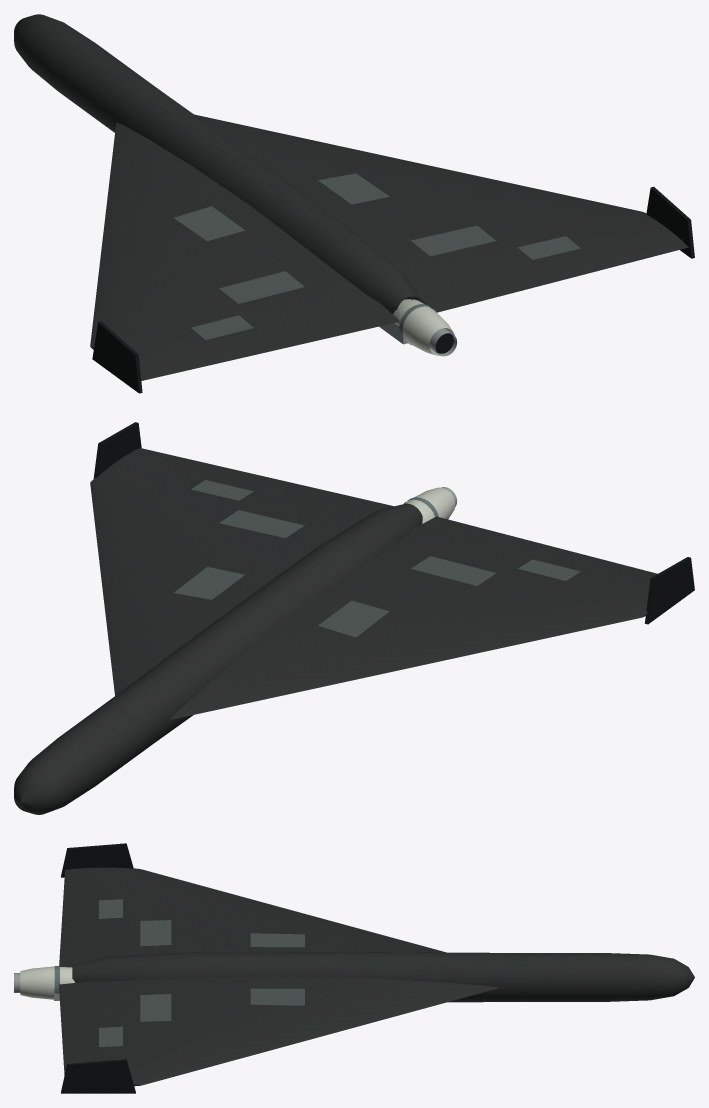
File: geran4.obj
3 views of the same model, one above another, from view 1: azimuth 30°, elevation 25°; view 2: azimuth 150°, elevation 25°; view 3: azimuth 270°, elevation 25° (orthographic). The views are drawn at different scales.
Visible parts, largest first — view 1: wing_top, body, surface_patch, winglet, rear_pod; view 2: wing_top, body, surface_patch, winglet, rear_pod; view 3: wing_top, body, surface_patch, winglet, rear_pod.
Boxes of the visible parts, left/top/right/bottom form: wing_top: left=90, top=114, right=688, bottom=380; body: left=14, top=14, right=422, bottom=313; surface_patch: left=174, top=173, right=580, bottom=339; winglet: left=92, top=186, right=694, bottom=393; rear_pod: left=392, top=299, right=454, bottom=355; wing_top: left=90, top=448, right=657, bottom=719; body: left=14, top=503, right=422, bottom=814; surface_patch: left=174, top=480, right=580, bottom=637; winglet: left=93, top=422, right=694, bottom=624; rear_pod: left=405, top=487, right=455, bottom=523; wing_top: left=59, top=867, right=499, bottom=1085; body: left=72, top=952, right=694, bottom=1002; surface_patch: left=99, top=899, right=304, bottom=1046; winglet: left=61, top=843, right=135, bottom=1093; rear_pod: left=20, top=966, right=75, bottom=999.
Size of the model in its own units: 4.93 by 0.515 by 6.53.
1 material, 1 textured.
